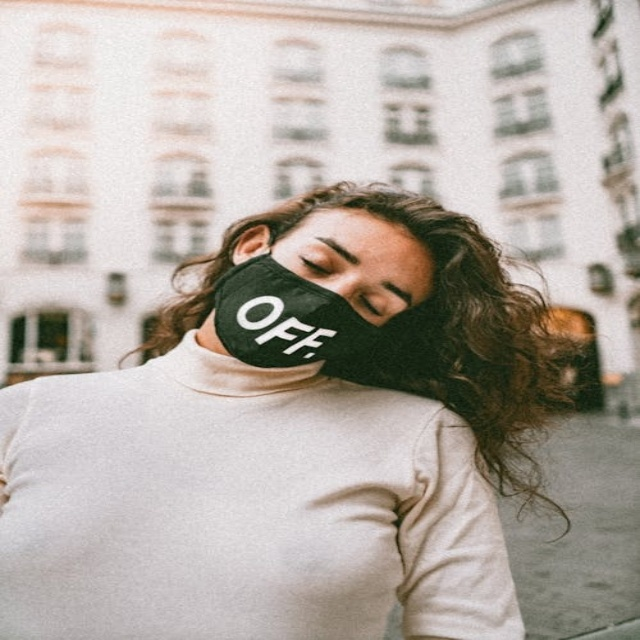Mascara: (210, 251, 414, 376)
Sin_gafas: (283, 229, 415, 322)
